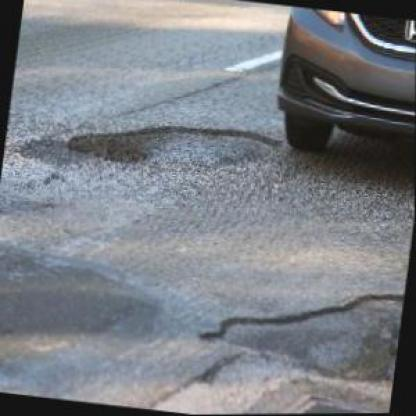pothole: (65, 106, 284, 188)
